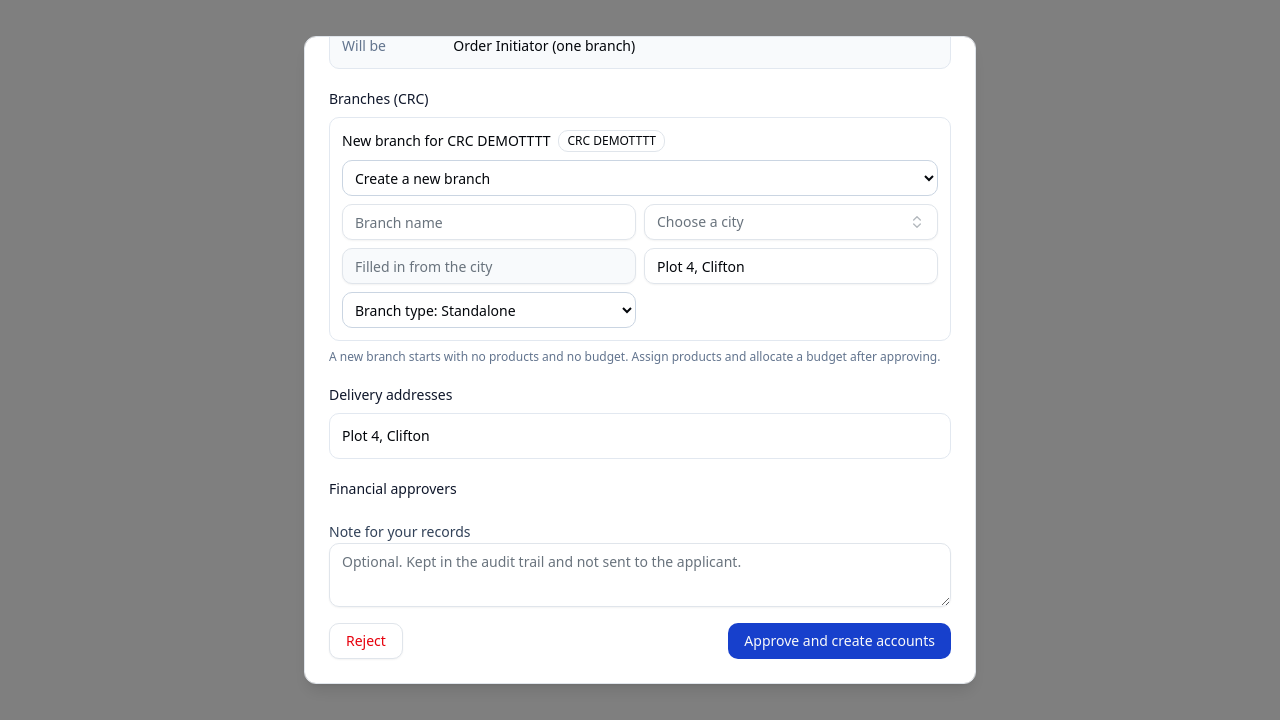
Test: DepartmentJoinReviewDialog — a new branch's details › never offers the CRC as the name of a branch an older request did not name
The width and height of the screenshot is (1280, 720).
(page scrolled)
Expected: the field labelled "Branch name" is empty, [342, 204, 636, 240]
Step 1. Click the button "Approve and create accounts" → (840, 641), box [728, 623, 951, 659]
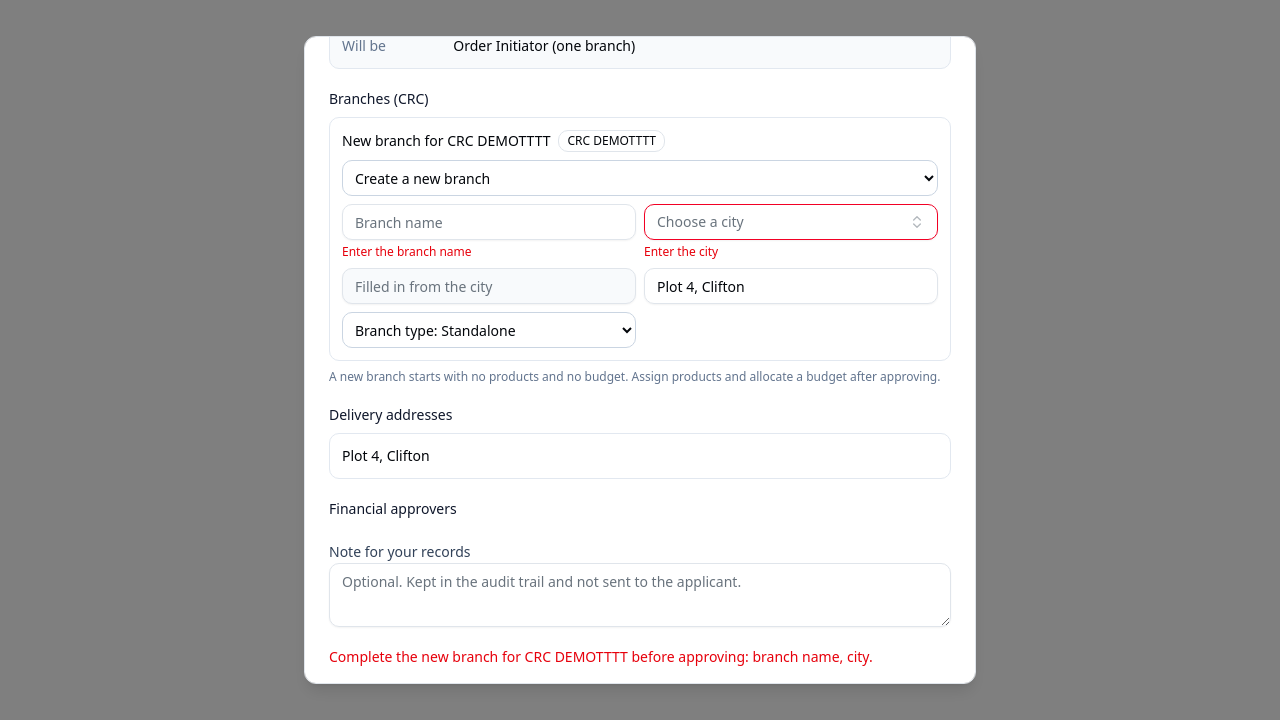
Expected: the message reads "Complete the new branch for CRC DEMOTTTT before approving: branch name, city.", [329, 647, 873, 666]
